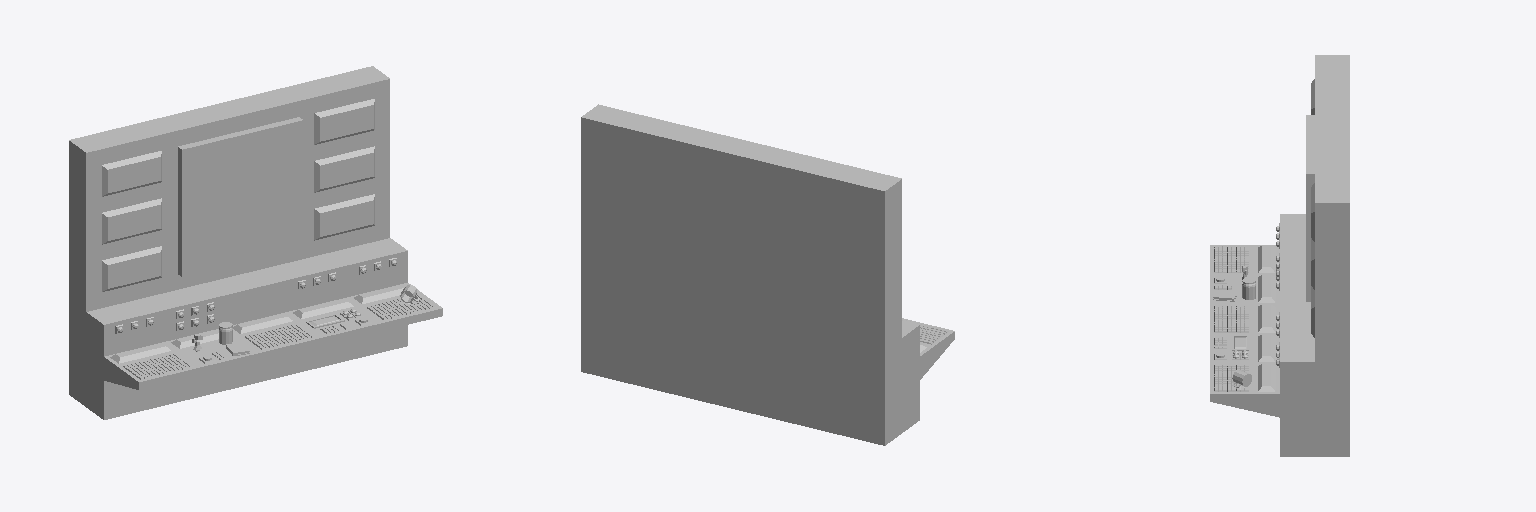
The model's file is console.obj.
3 renders of one model, left to right at view 1: azimuth 30°, elevation 25°; view 2: azimuth 150°, elevation 25°; view 3: azimuth 270°, elevation 25°, orthographic.
Parts seen in each view (by area): view 1: Cube; view 2: Cube; view 3: Cube.
Part boxes in pixels (x1,y1,x2,y2): Cube: (69, 66, 442, 419); Cube: (581, 104, 954, 445); Cube: (1210, 55, 1349, 456).
Bounding box in the file's own units: 5 × 4 × 2.